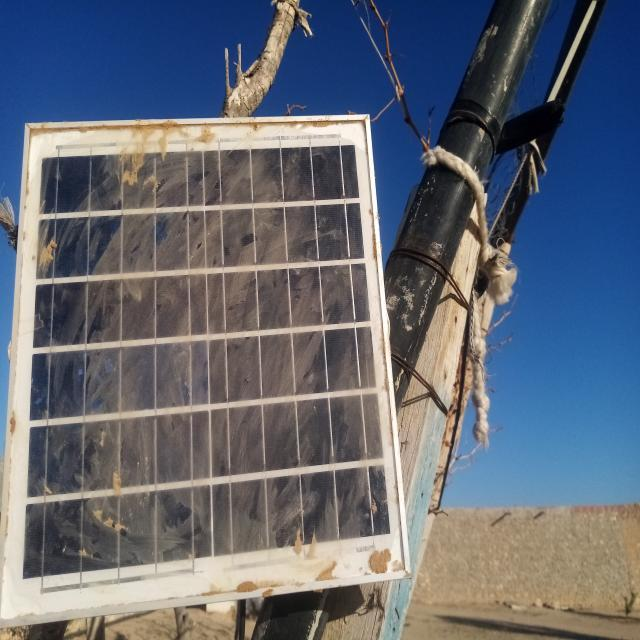faulty: (1, 117, 410, 626)
